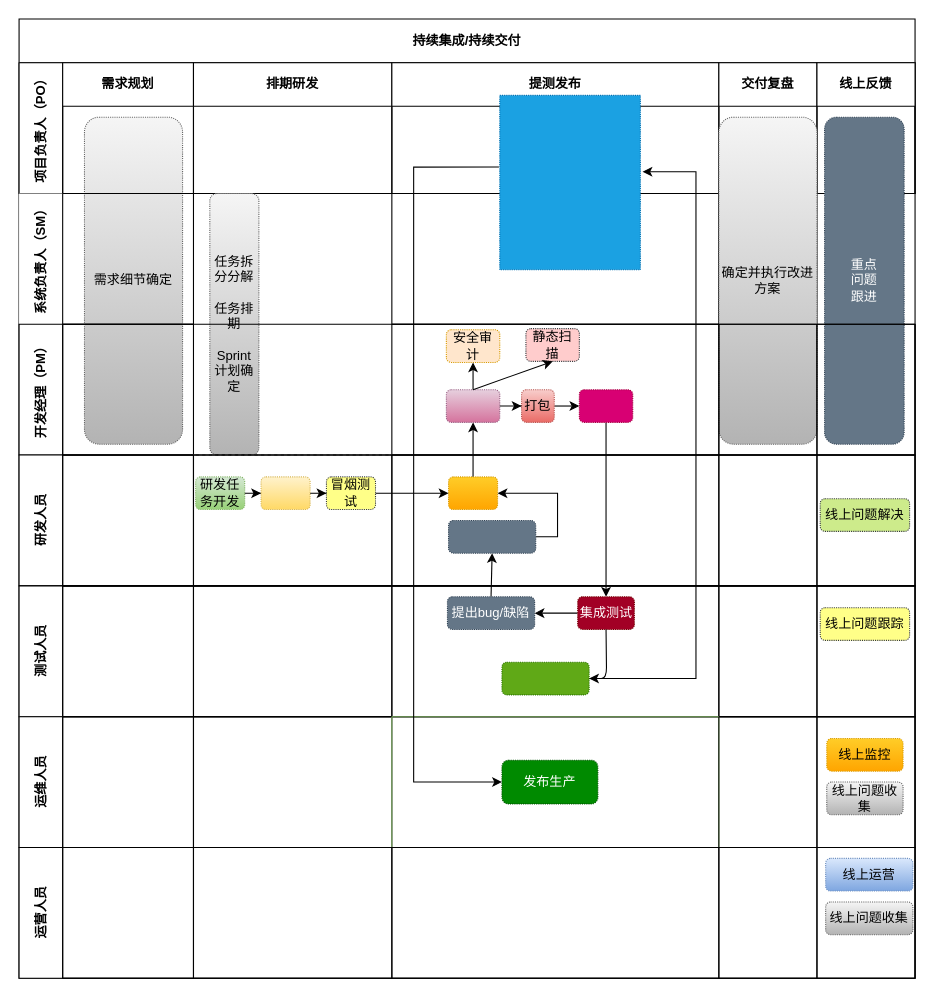
This 934x997 diagram has some shape labels left out. Each missing label, with the centre of its shape:
bug/缺陷修改: pixel 491 536
代码托管: pixel 472 493
代码提交: pixel 285 493
发布测试: pixel 605 405
构建: pixel 472 405
测试完成: pixel 545 678
确认发布计划 确定发布版本: pixel 569 182
